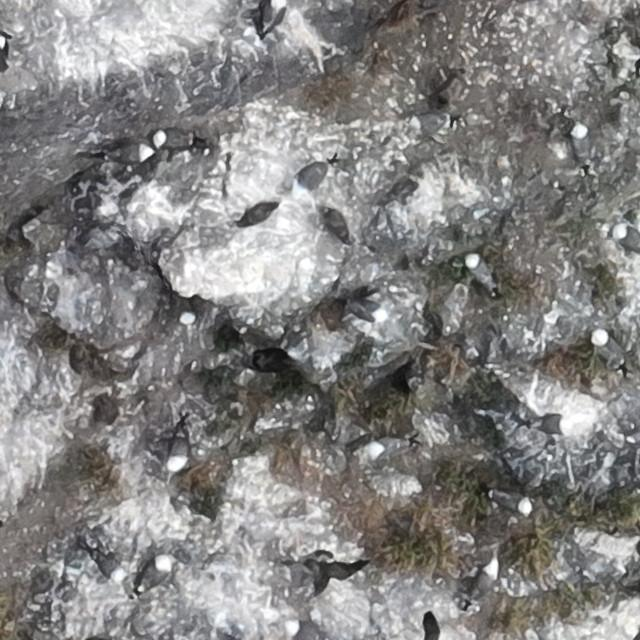umineko: (292, 161, 334, 198), (140, 558, 172, 591), (346, 297, 389, 321), (595, 333, 626, 365), (466, 257, 496, 290), (108, 144, 154, 163), (167, 431, 188, 471), (95, 554, 125, 580), (492, 492, 530, 512), (480, 547, 499, 584), (574, 123, 592, 161), (413, 115, 447, 133), (156, 129, 189, 147), (369, 439, 406, 455), (175, 299, 196, 326), (264, 0, 284, 28), (530, 416, 562, 432), (424, 614, 440, 639)
